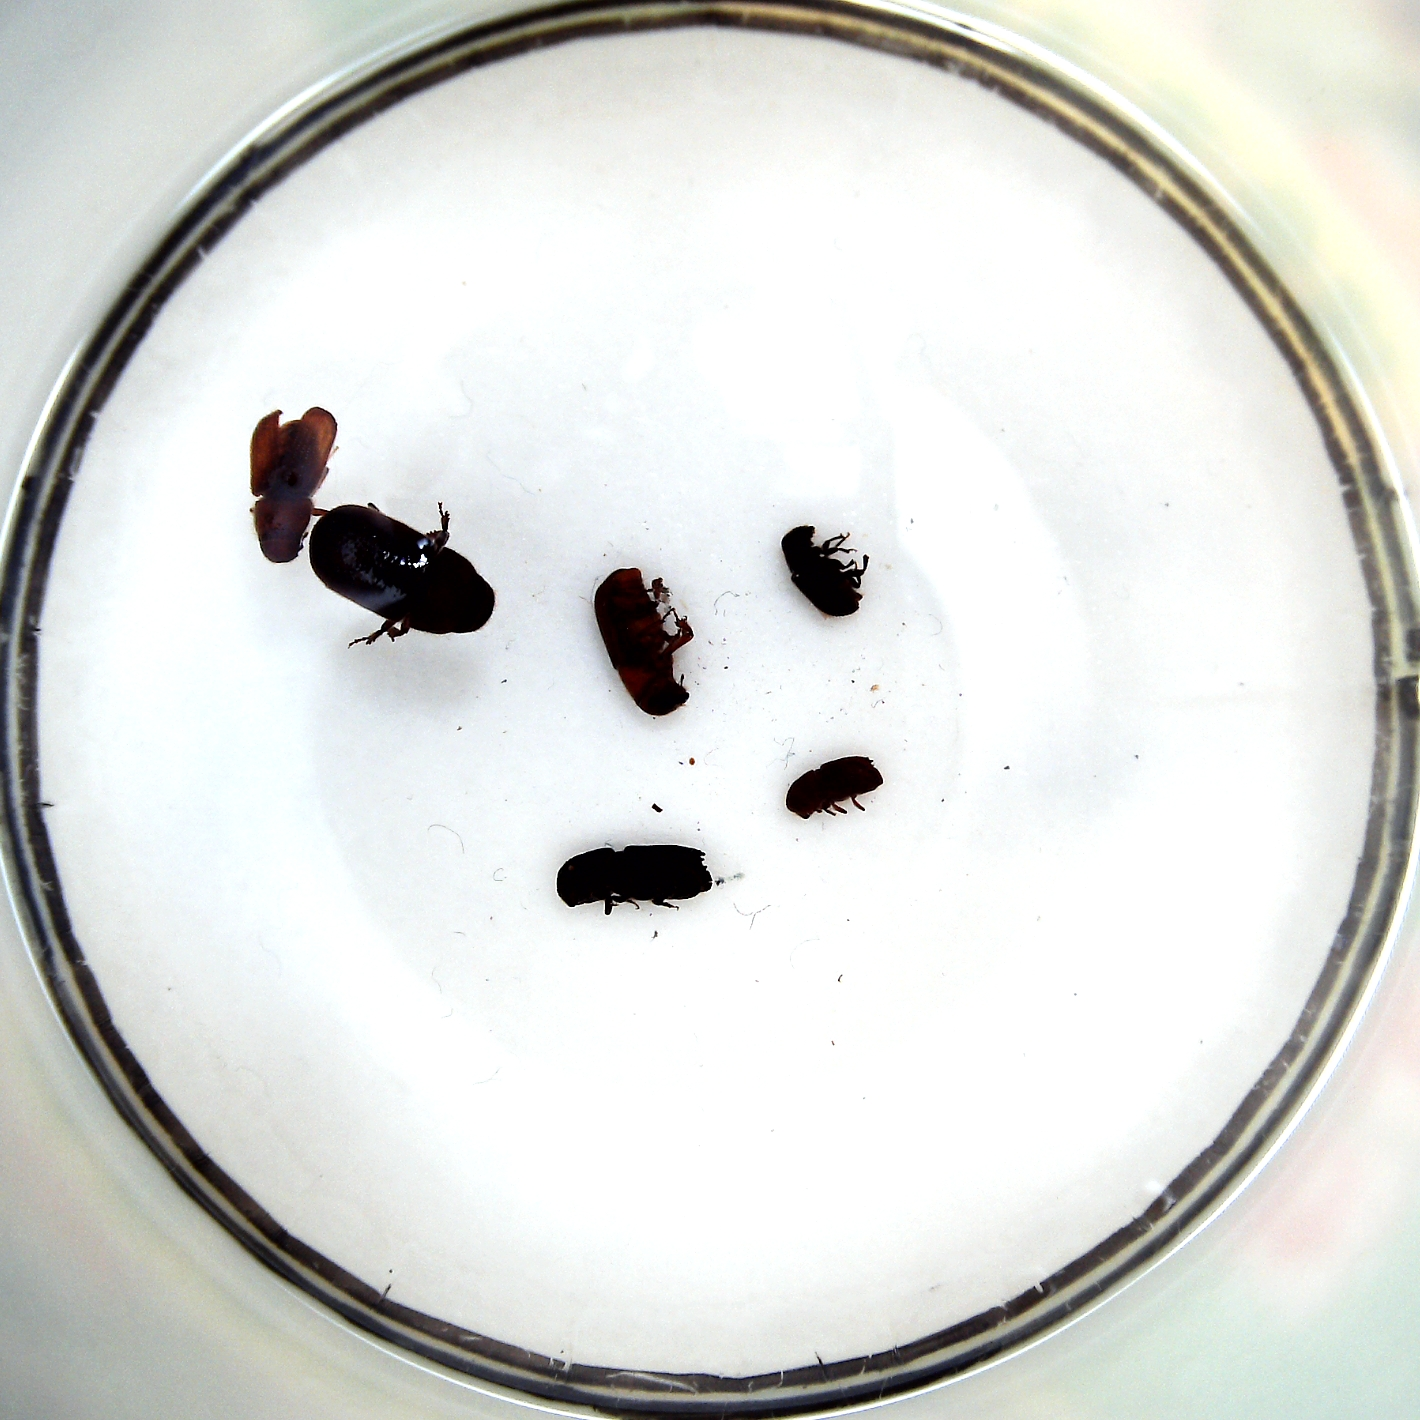Boerner: (555, 843, 714, 908)
Leconte: (308, 505, 495, 635), (594, 568, 690, 715), (248, 406, 337, 563)
armandi: (782, 524, 862, 615)
linnaeus: (785, 756, 886, 818)
